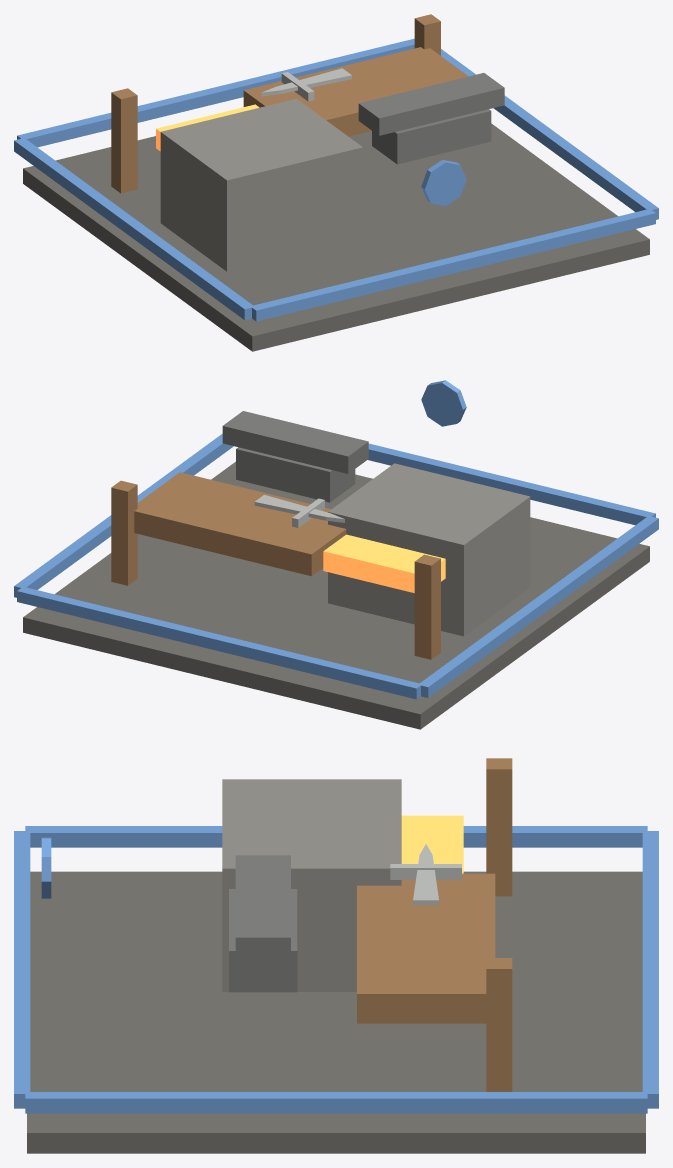
Rendered from t4_weapon_smith.glb.
The picture shows the model from 3 angles, top to bottom: view 1: azimuth 30°, elevation 25°; view 2: azimuth 150°, elevation 25°; view 3: azimuth 270°, elevation 25°; orthographic projection. The views are drawn at different scales.
Parts seen in each view (by area): view 1: FootprintBase, ForgeBody, WorkTable, TierFrontTrim, AnvilTop, TierLeftTrim, TierBackTrim, AnvilBody, TierRightTrim, RackPostL, TierEmblem, RackPostR (+2 smaller); view 2: FootprintBase, ForgeBody, WorkTable, TierBackTrim, AnvilTop, TierLeftTrim, TierFrontTrim, ForgeGlow, AnvilBody, TierRightTrim, RackPostL, RackPostR (+2 smaller); view 3: FootprintBase, ForgeBody, WorkTable, TierRightTrim, TierLeftTrim, AnvilTop, TierFrontTrim, TierBackTrim, RackPostR, RackPostL, AnvilBody, ForgeGlow (+3 smaller).
Part boxes in pixels (x1,y1,x2,y2): FootprintBase: (23, 123, 649, 351); ForgeBody: (160, 98, 362, 271); WorkTable: (243, 47, 468, 136); TierFrontTrim: (251, 209, 655, 321); AnvilTop: (358, 73, 504, 135); TierLeftTrim: (14, 138, 254, 319); TierBackTrim: (17, 38, 414, 147); AnvilBody: (372, 109, 491, 164); TierRightTrim: (441, 49, 658, 219); RackPostL: (111, 88, 137, 193); TierEmblem: (421, 160, 466, 206); RackPostR: (414, 14, 440, 55); FootprintBase: (23, 461, 649, 729); ForgeBody: (328, 463, 530, 636); WorkTable: (134, 472, 346, 576); TierBackTrim: (17, 586, 422, 699); AnvilTop: (222, 411, 368, 473); TierLeftTrim: (420, 516, 658, 697); TierFrontTrim: (368, 443, 655, 525); ForgeGlow: (323, 534, 445, 592); AnvilBody: (236, 447, 355, 502); TierRightTrim: (14, 433, 233, 597); RackPostL: (414, 554, 440, 659); RackPostR: (111, 480, 137, 585); FootprintBase: (27, 871, 645, 1153); ForgeBody: (222, 779, 401, 991); WorkTable: (357, 873, 495, 1023); TierRightTrim: (25, 1092, 647, 1113); TierLeftTrim: (25, 826, 647, 847); AnvilTop: (235, 855, 290, 961); TierFrontTrim: (14, 831, 30, 1108); TierBackTrim: (642, 831, 658, 1108); RackPostR: (486, 958, 512, 1091); RackPostL: (486, 758, 512, 896); AnvilBody: (229, 889, 297, 992); ForgeGlow: (401, 815, 463, 873).
Bounding box in the file's own units: 3.96 × 1.25 × 3.96.
